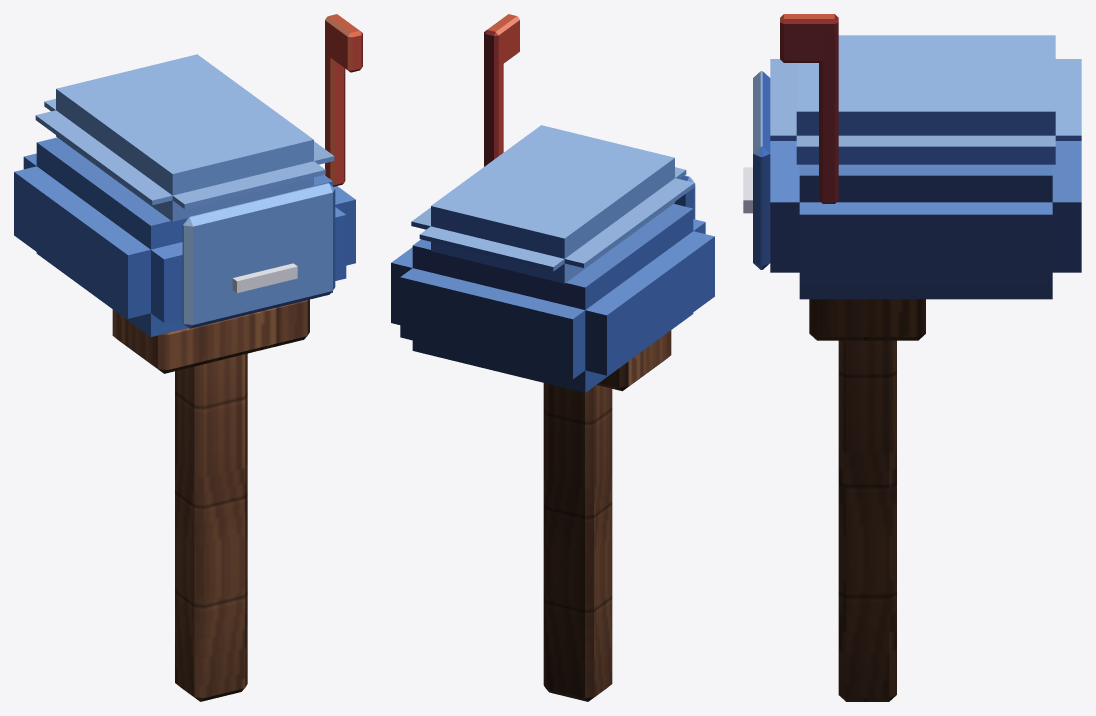
File: mailbox.glb
The picture shows the model from 3 angles, left to right: view 1: azimuth 30°, elevation 25°; view 2: azimuth 150°, elevation 25°; view 3: azimuth 270°, elevation 25°; orthographic projection. The views are drawn at different scales.
Parts seen in each view (by area): view 1: mailbox; view 2: mailbox; view 3: mailbox.
Boxes of the visible parts, x1,y1,x2,y2 form: mailbox: [14, 14, 362, 701]; mailbox: [391, 14, 714, 701]; mailbox: [743, 14, 1081, 701].
Bounding box in the file's own units: 0.3 × 0.832 × 0.348.
Materials: 6 (6 with a texture image).
